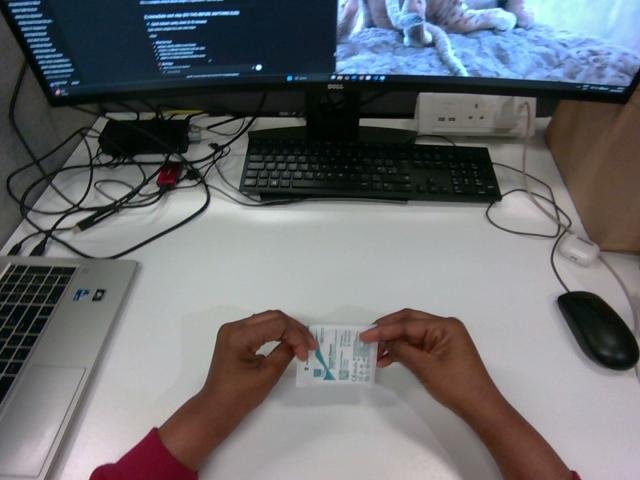gauze: (296, 325, 376, 386)
